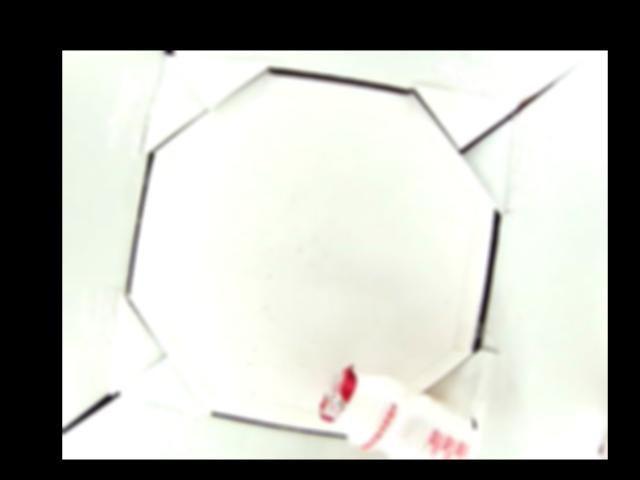Bottle: (319, 364, 482, 459)
